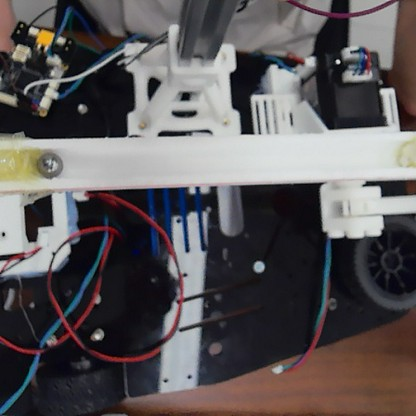ironball: (33, 151, 64, 180)
